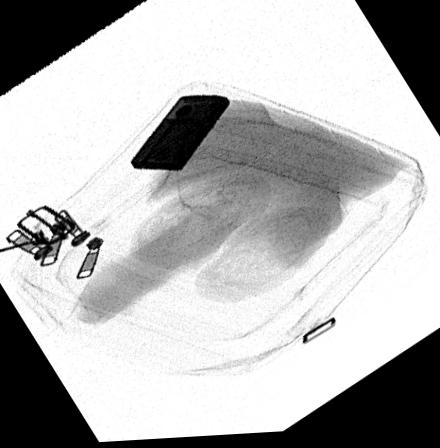Lighter: (128, 95, 229, 175)
